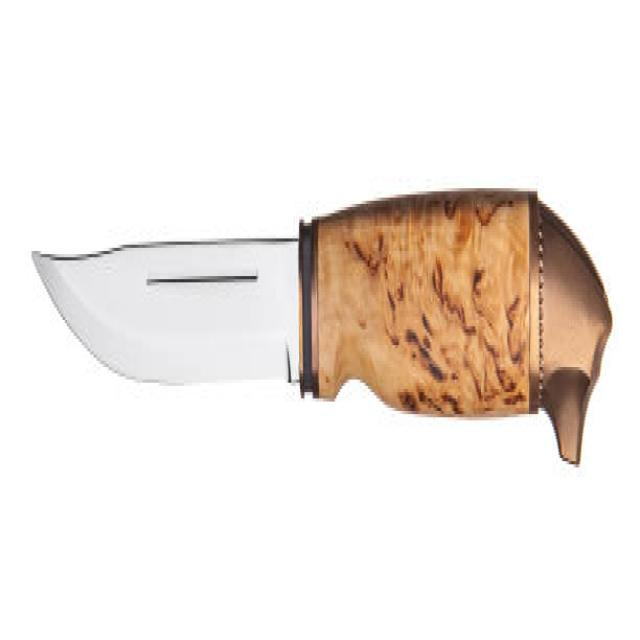knife: (28, 180, 614, 470)
